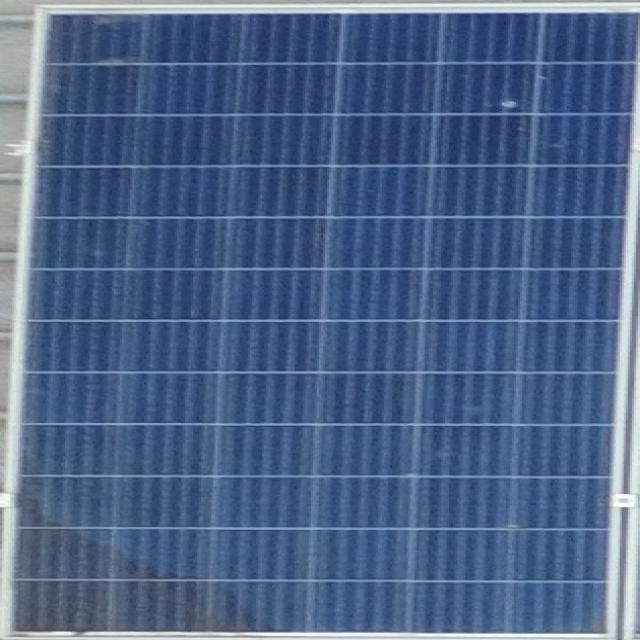Dust: (17, 491, 273, 638)
bird-droppings: (477, 95, 527, 117), (76, 15, 142, 30), (87, 54, 122, 72)
